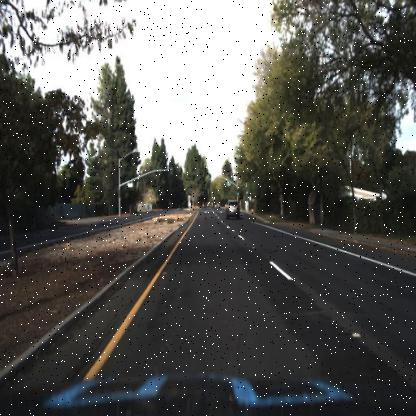car: (225, 198, 241, 220)
trafficLight-Green: (243, 182, 250, 197), (236, 186, 241, 198), (208, 172, 212, 184)
